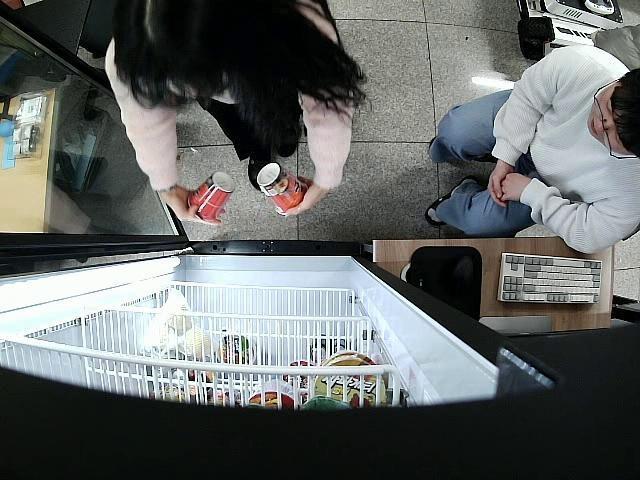02_shinRamen_S: (256, 163, 307, 216), (187, 172, 234, 224)
